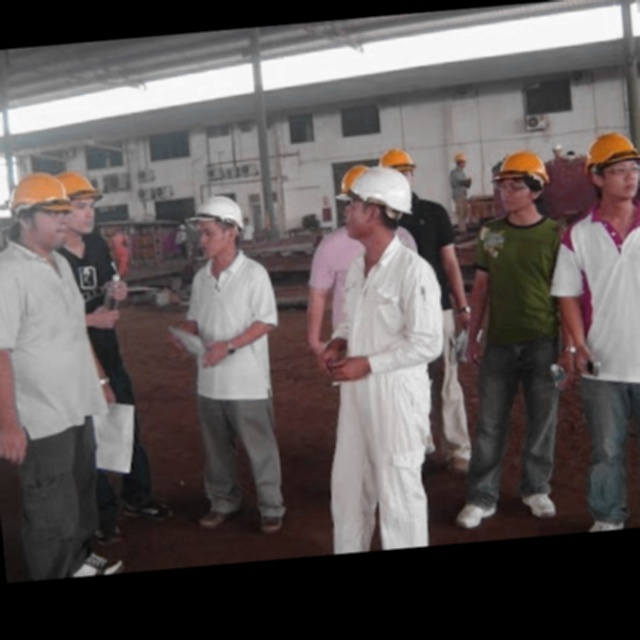Con_Casco: (343, 167, 417, 245), (10, 173, 72, 248), (586, 129, 640, 197)
Sin_Chaleco: (179, 247, 286, 379)
